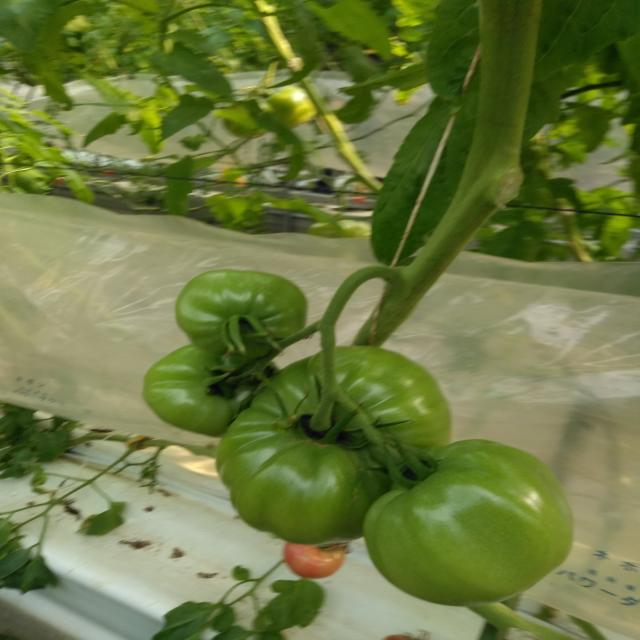yesil: (150, 240, 550, 625)
